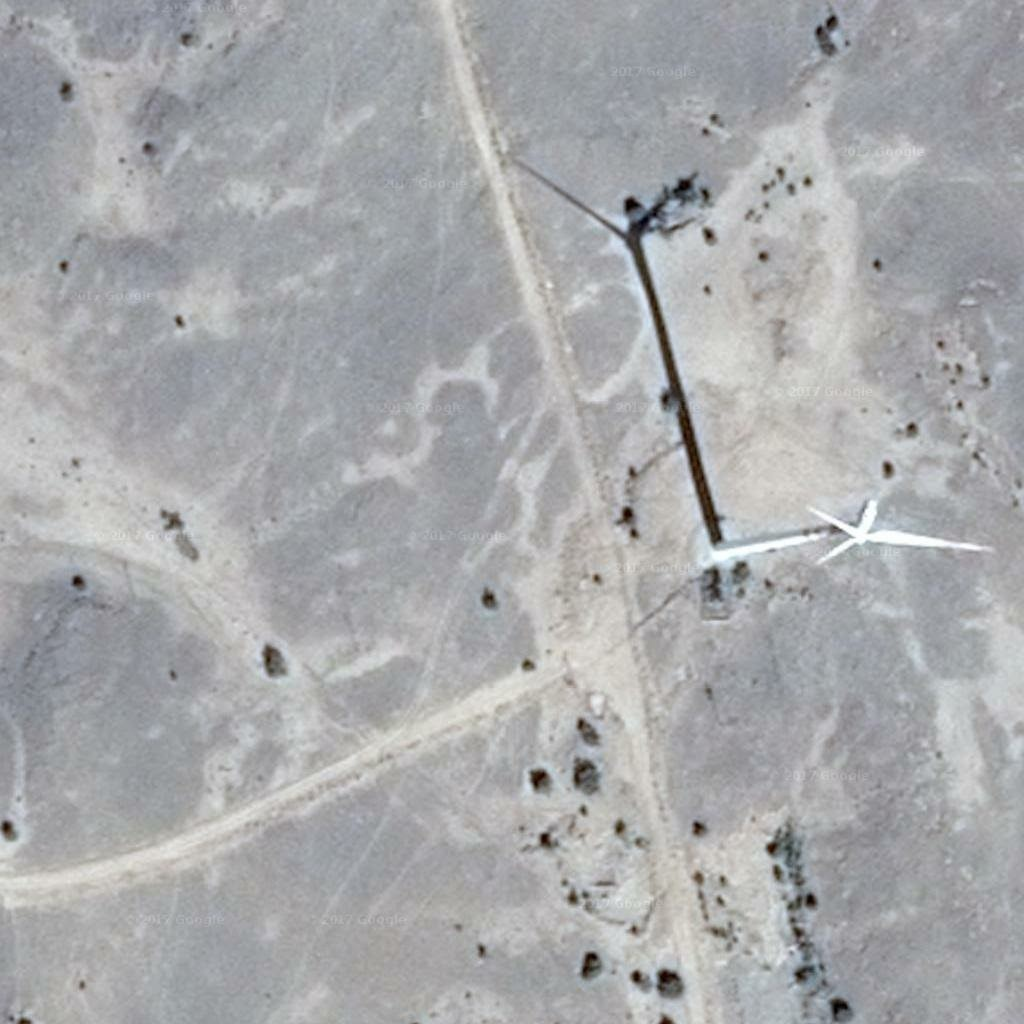Windmill: (517, 147, 749, 536)
